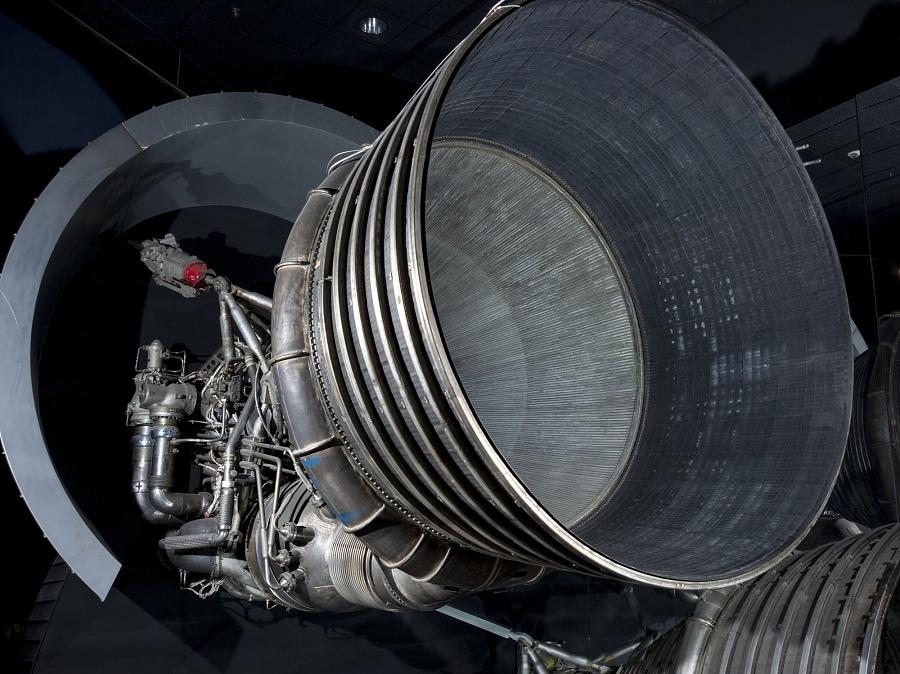thruster: (270, 0, 861, 597)
